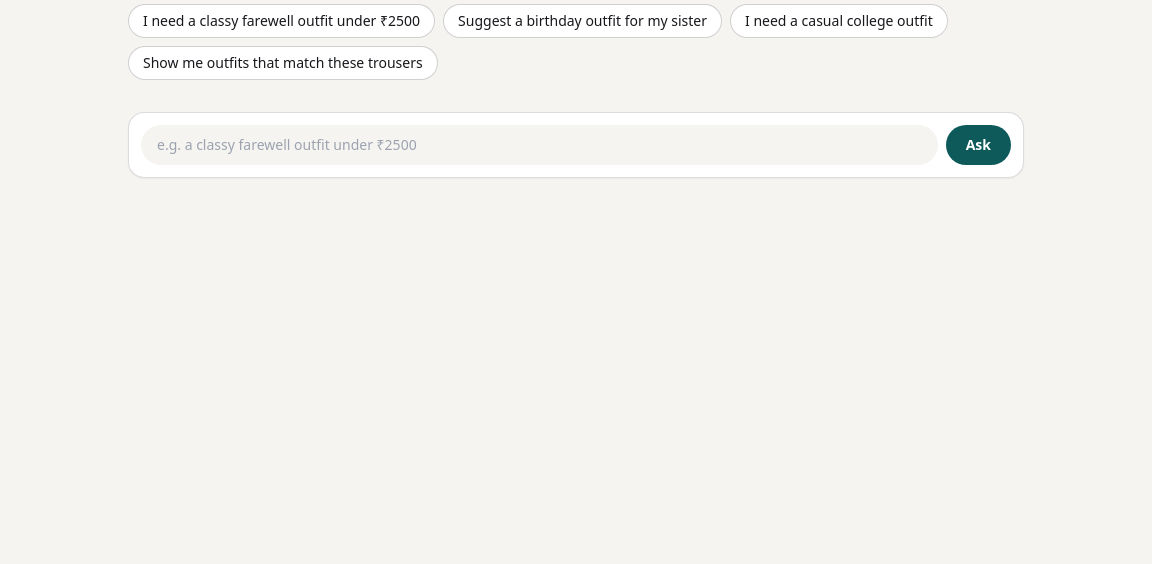
Test: AI stylist chat › marks outfits as over budget when nothing fits
Type "farewell outfit for men under ₹500" into the field named "Describe the outfit".
click(539, 145); type("farewell outfit for men under ₹500")  # box [141,125,938,165]
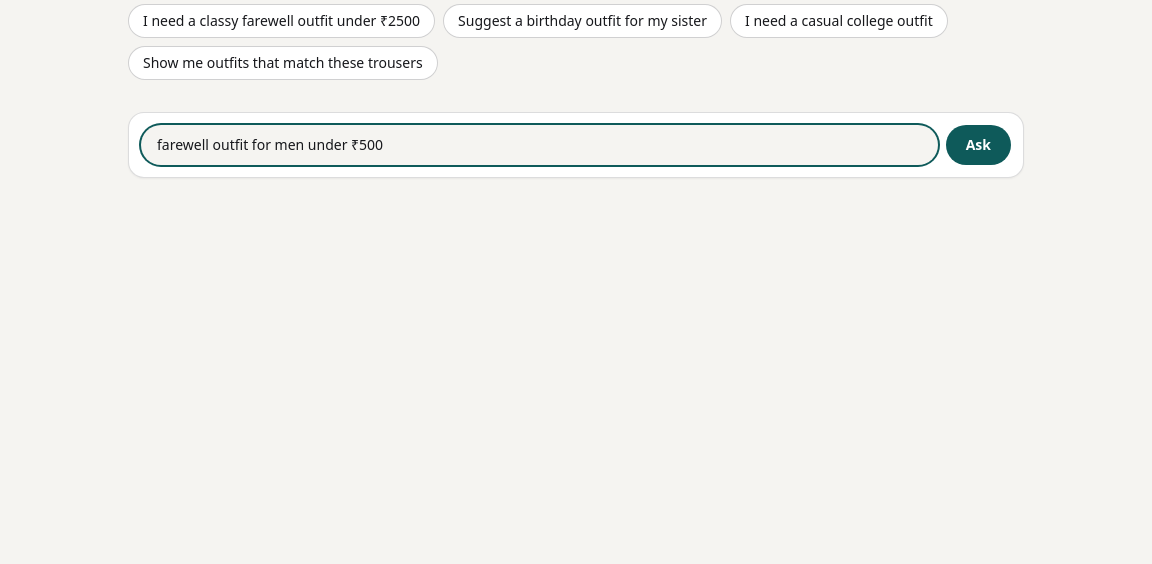
Click the button "Ask".
click(978, 145)  # box [946,125,1011,165]
(page scrolled)
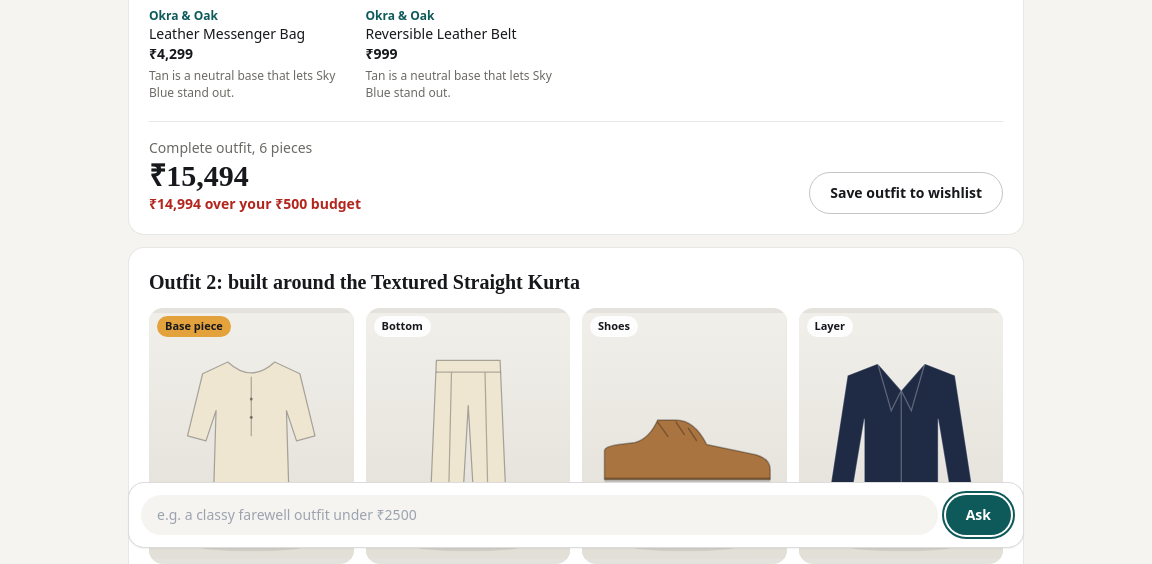
Now the text "₹14,994 over your ₹500 budget" is shown, box [149,194,361,214]
